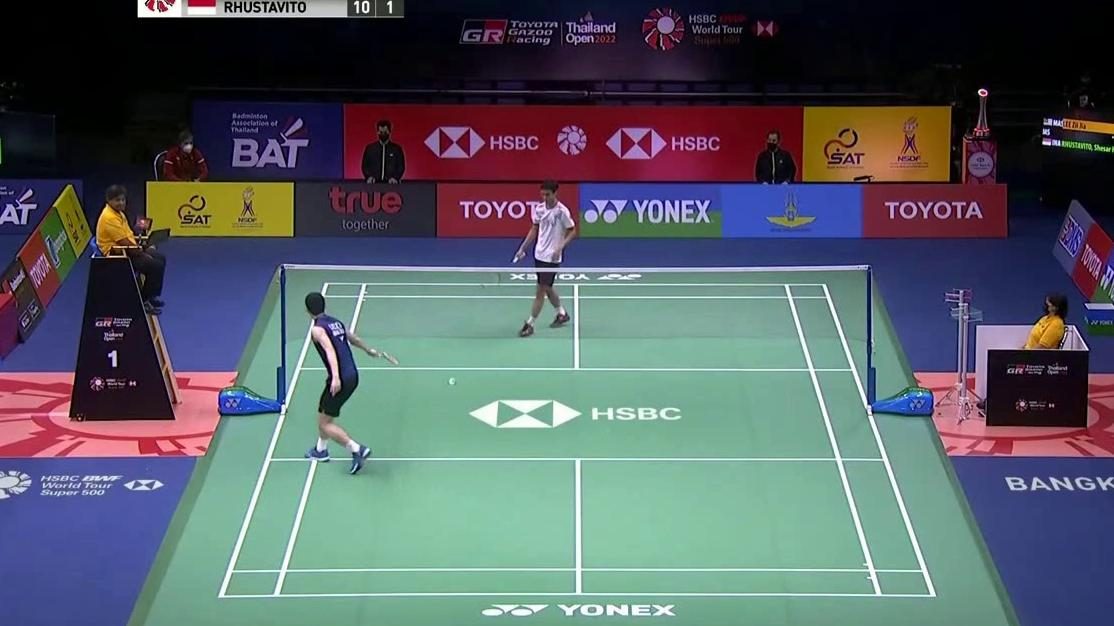racket: (481, 251, 526, 291), (372, 351, 400, 365)
shuttle: (448, 378, 457, 386)
